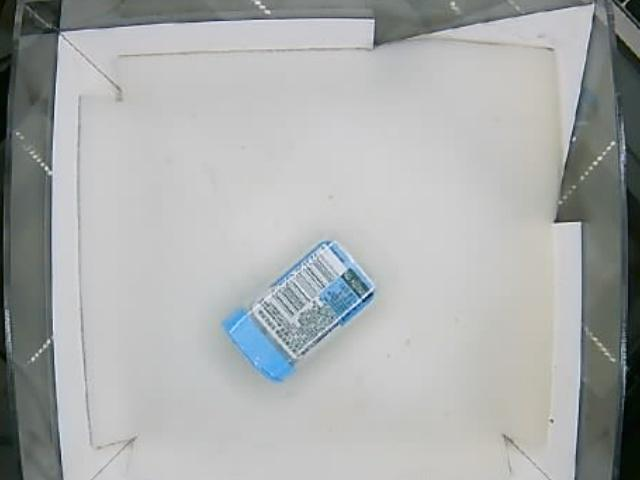Bottle: (223, 240, 376, 385)
